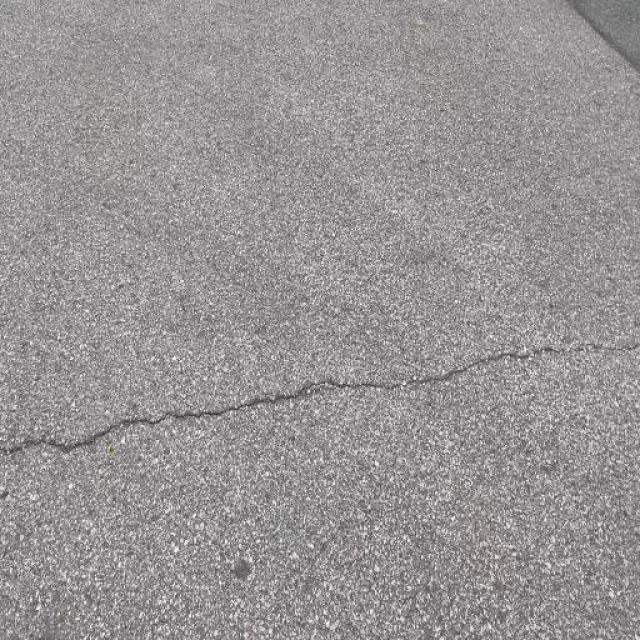Retak-Melintang: (3, 341, 640, 456)
